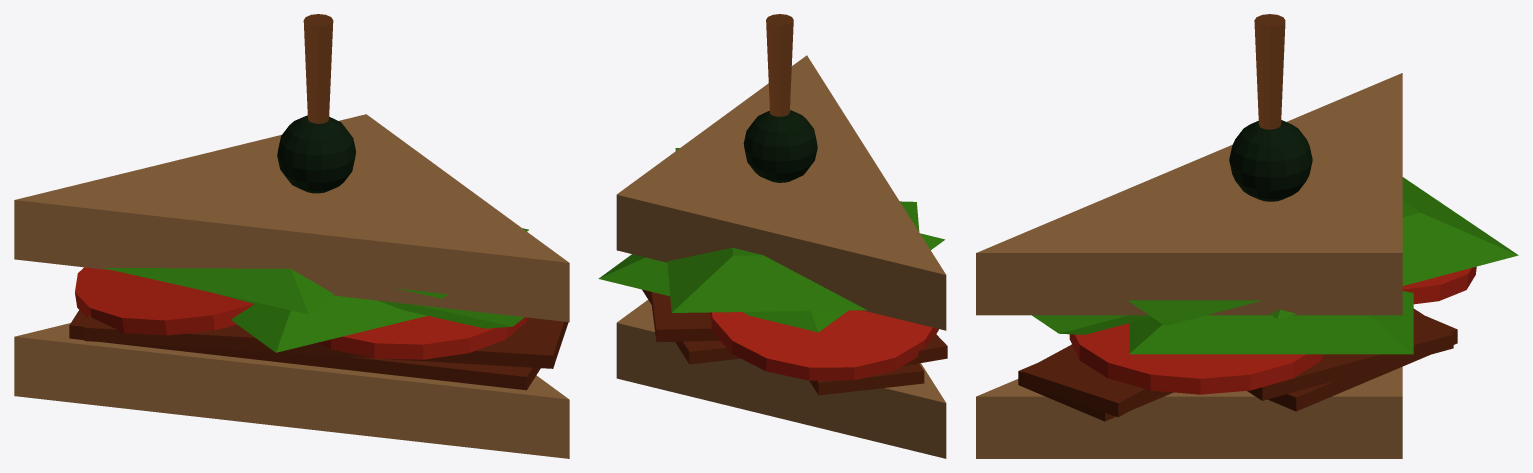
File: sandwich.obj
3 views of the same model, side by side, from view 1: azimuth 30°, elevation 25°; view 2: azimuth 150°, elevation 25°; view 3: azimuth 270°, elevation 25° (orthographic). The views are drawn at different scales.
Bounding box in the file's own units: 0.6289 × 0.5205 × 0.6713.
6 materials, 6 textured.
